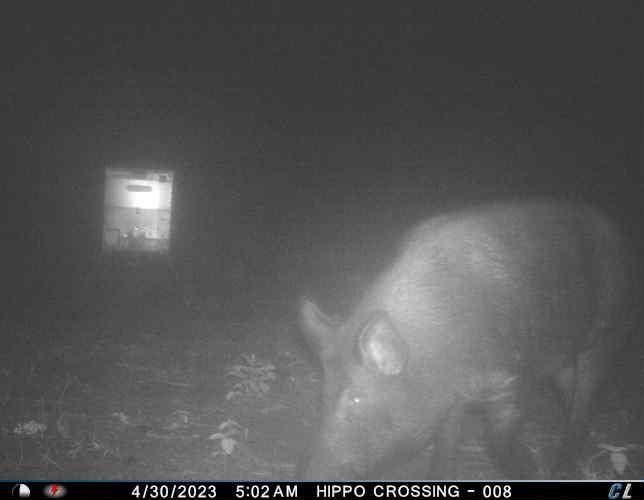Hog: (291, 196, 640, 481)
